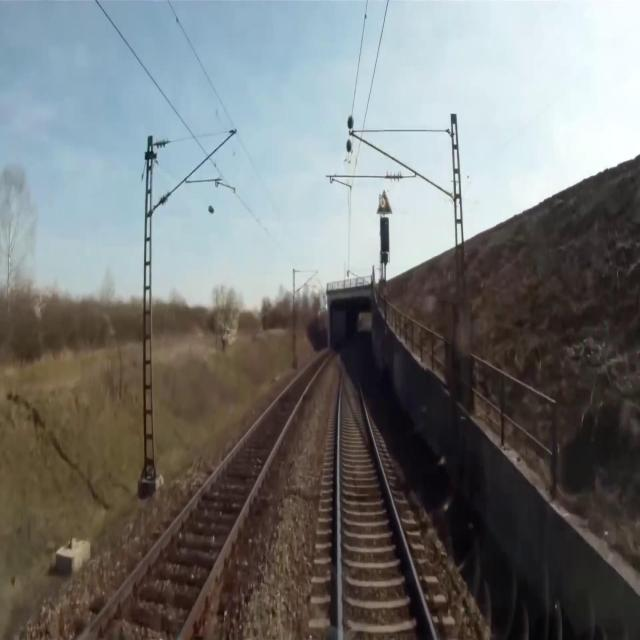rail-track: (82, 347, 334, 639), (340, 340, 432, 639)
